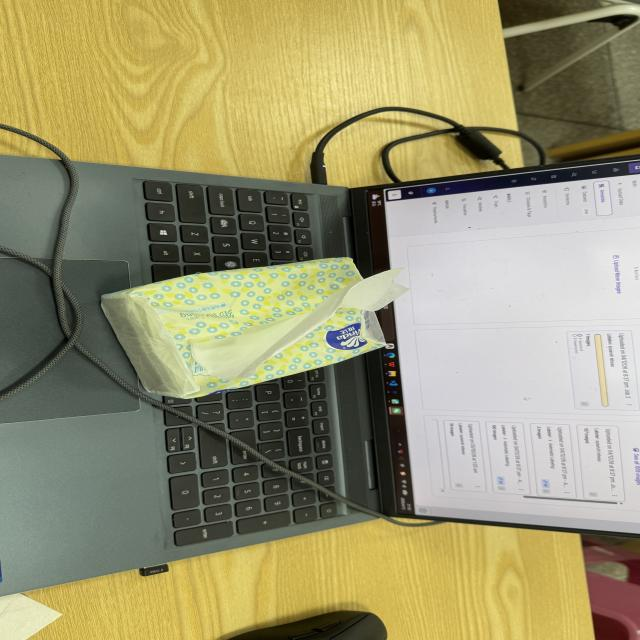tissue: (102, 258, 406, 397)
